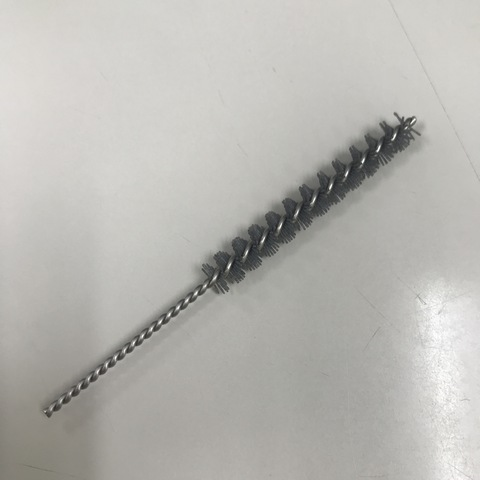Twist Brush-A: (40, 107, 421, 419)
